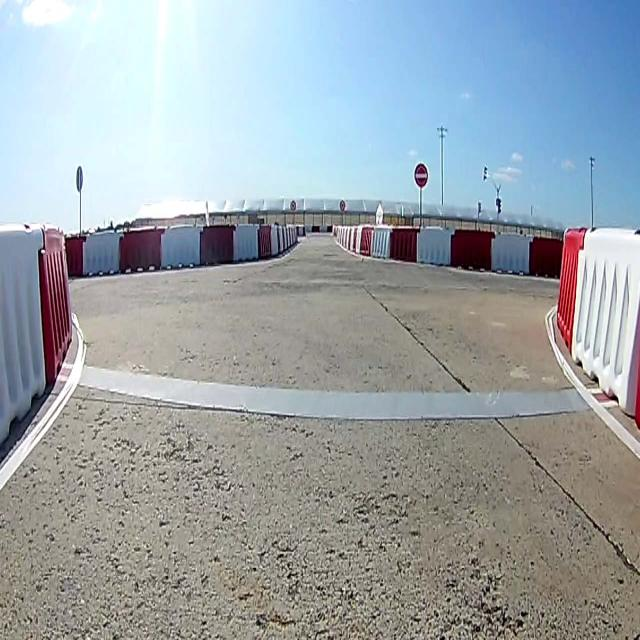girisyok: (414, 164, 428, 188)
